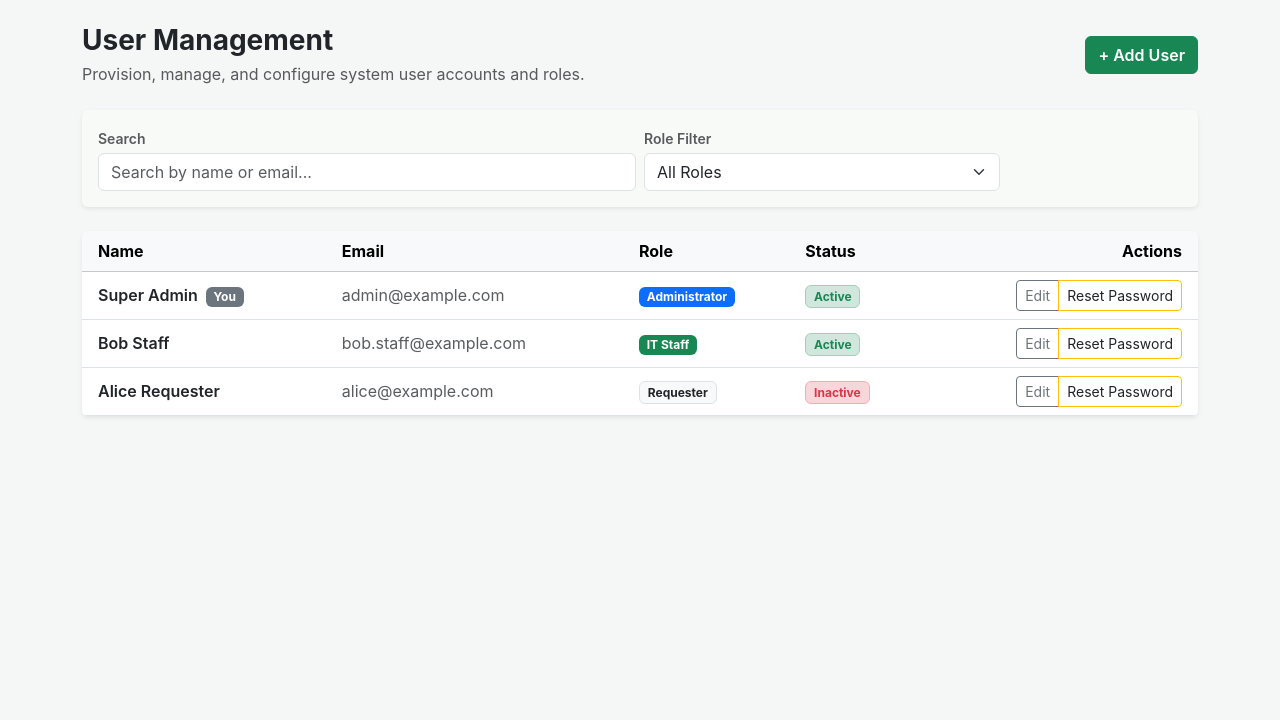
Test case: UserManagement UI Tests (UI-09, UI-10, UI-11, UI-15) › UI-15 & Invariants: Edit User & Self-Deactivation › allows editing other users and shows unassigned count notification
The width and height of the screenshot is (1280, 720).
Click the button with test id "edit-user-btn-2": (1038, 343) [1016,328,1059,359]
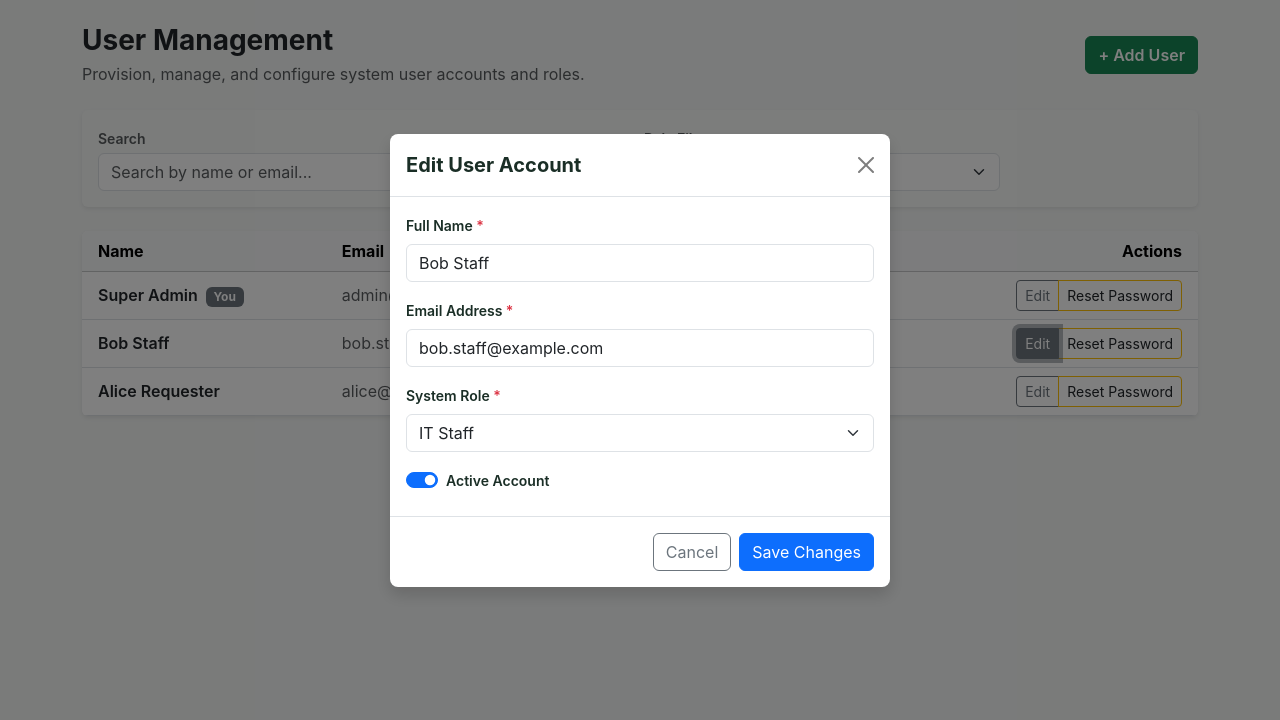
Select "Requester" in the dropdown with test id "edit-user-role": (640, 432) [406,414,874,452]
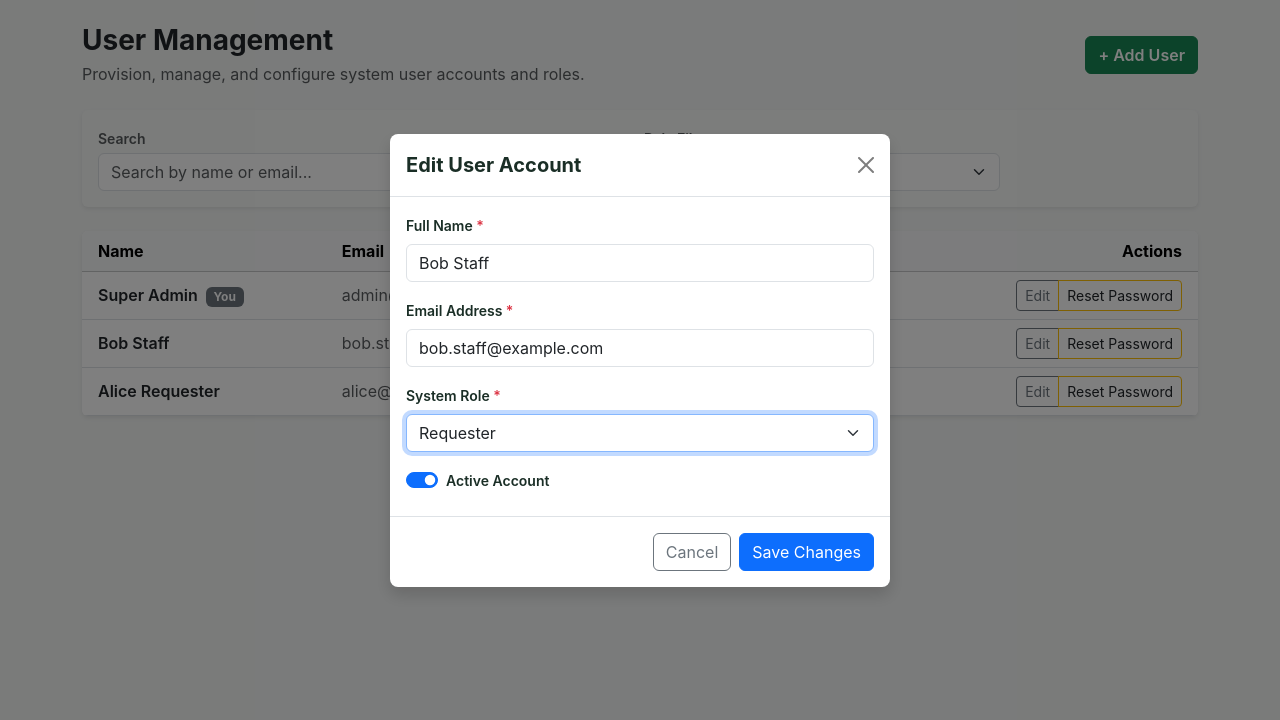
Click the checkbox with test id "edit-user-active": (422, 480) [406,472,438,488]
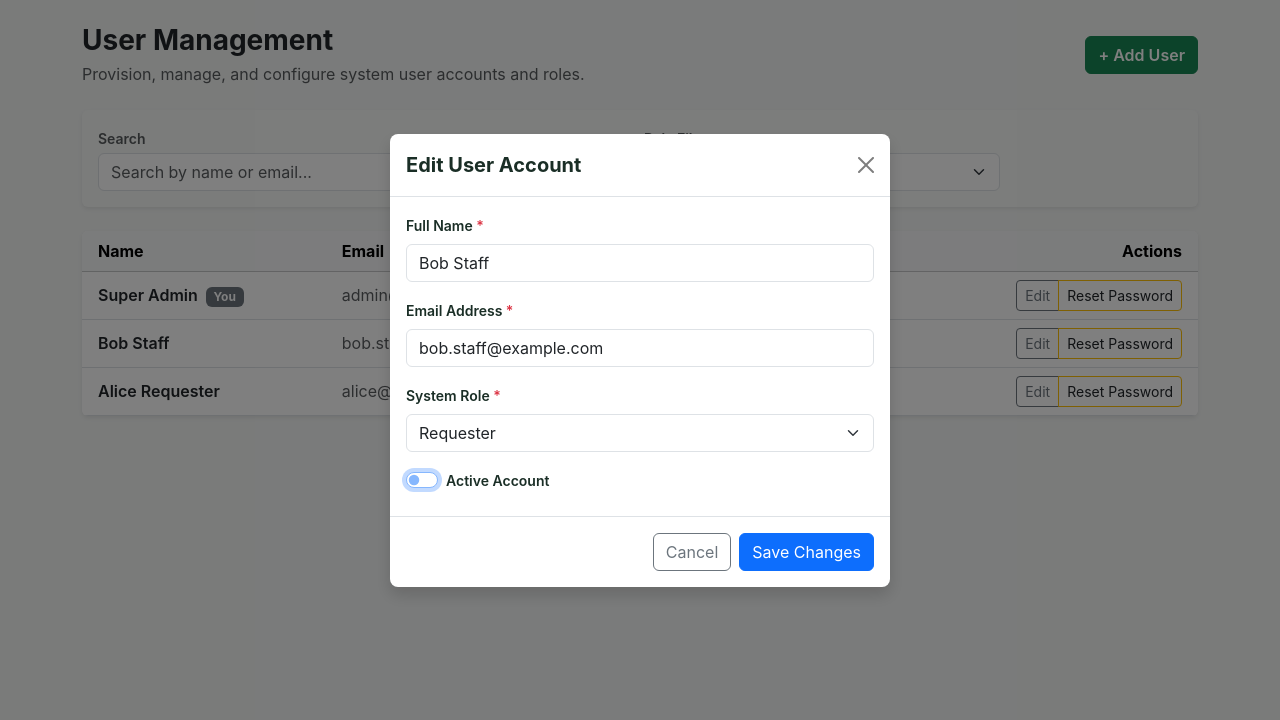
Click the button with test id "submit-edit-user-btn": (807, 552) [739,532,874,570]
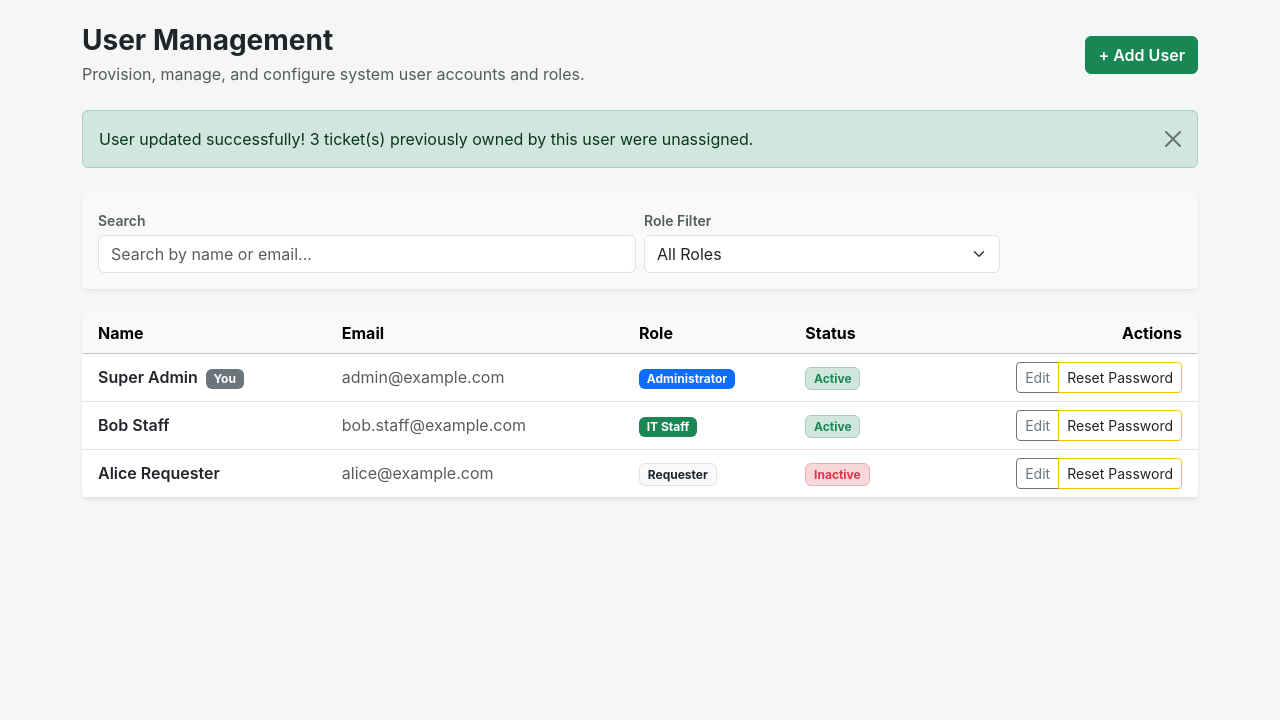
expect the text "3 ticket(s) previously owned by this user were unassigned" is shown: met, box [99,129,753,149]
